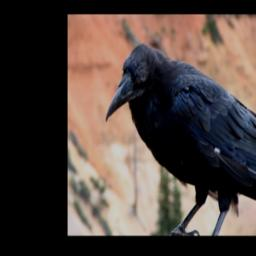Crow: (105, 38, 256, 235)
